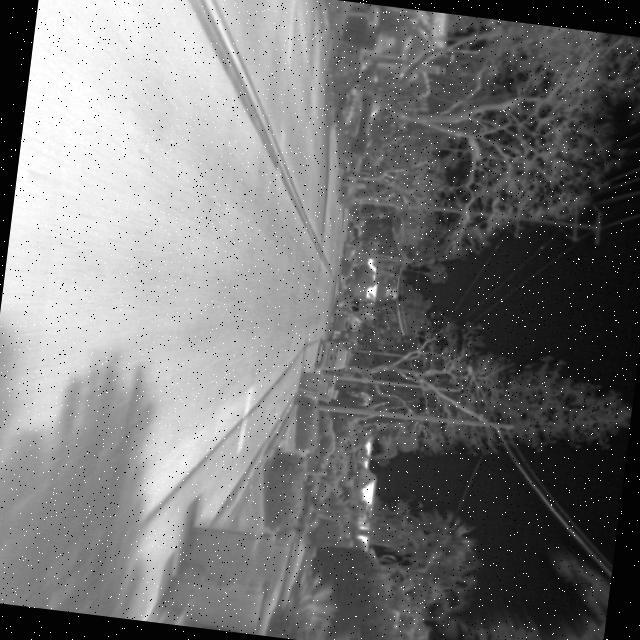Vehicle: (313, 336, 350, 374), (326, 307, 351, 334)
